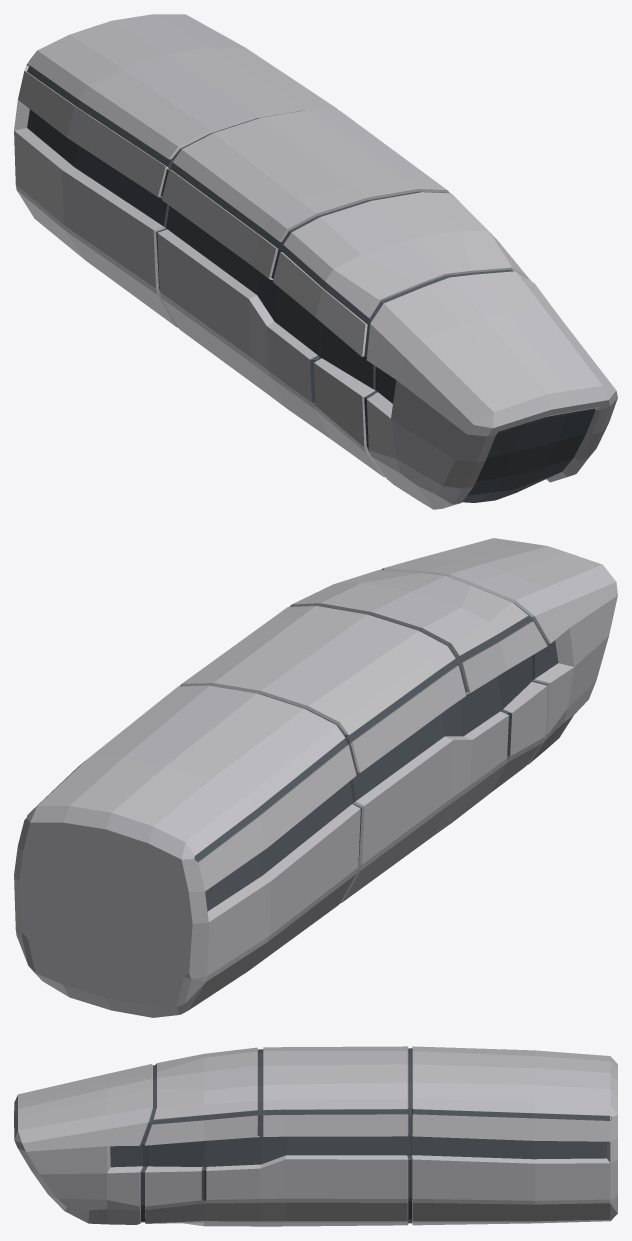
File: Dropship_04_Body.fbx
3 renders of one model, top to bottom at view 1: azimuth 30°, elevation 25°; view 2: azimuth 150°, elevation 25°; view 3: azimuth 270°, elevation 25°, orthographic. The views are drawn at different scales.
Parts seen in each view (by area): view 1: Dropship_04_Body; view 2: Dropship_04_Body; view 3: Dropship_04_Body.
Boxes of the visible parts, x1=… form: Dropship_04_Body: x1=14, y1=14, x2=617, y2=509; Dropship_04_Body: x1=14, y1=538, x2=617, y2=1017; Dropship_04_Body: x1=14, y1=1046, x2=617, y2=1226.
Size of the model in its own units: 361 by 358 by 1327.
1 material, 1 textured.
